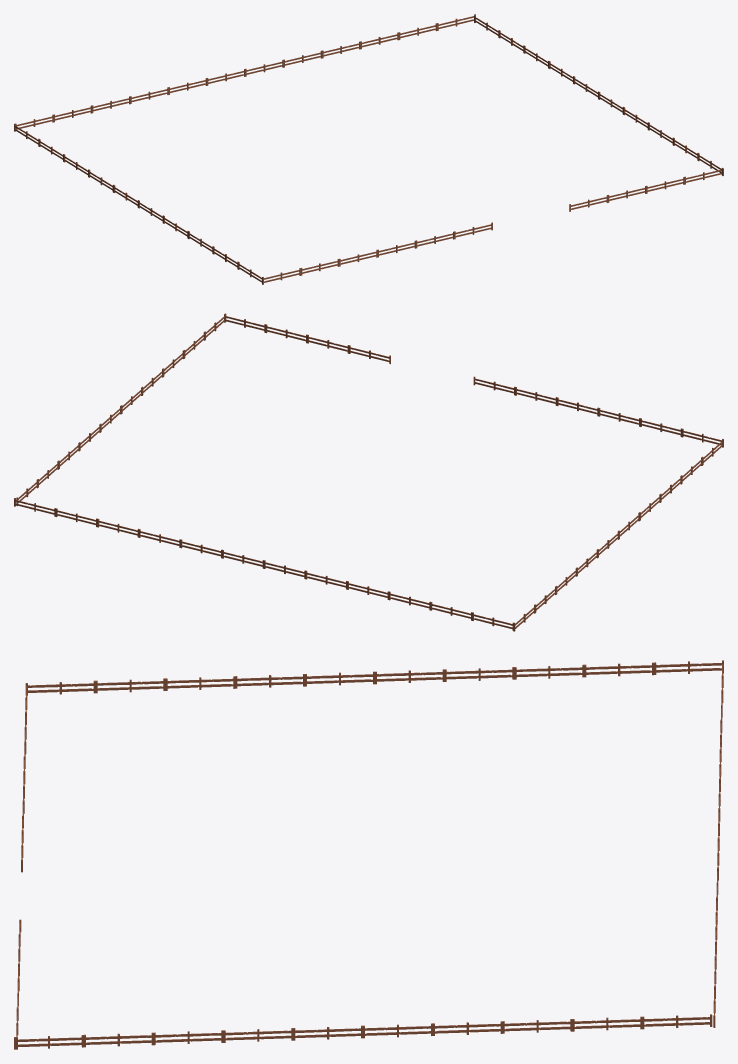
Rendered from fences.fbx.
The picture shows the model from 3 angles, top to bottom: view 1: azimuth 30°, elevation 25°; view 2: azimuth 150°, elevation 25°; view 3: azimuth 270°, elevation 25°; orthographic projection. The views are drawn at different scales.
Visible parts, largest first — view 1: Fence.003; view 2: Fence.003; view 3: Fence.003.
Boxes of the visible parts, x1,y1,x2,y2 form: Fence.003: (14, 14, 723, 284); Fence.003: (14, 313, 723, 631); Fence.003: (14, 660, 723, 1049).
Size of the model in its own units: 7519 by 110 by 5973.
